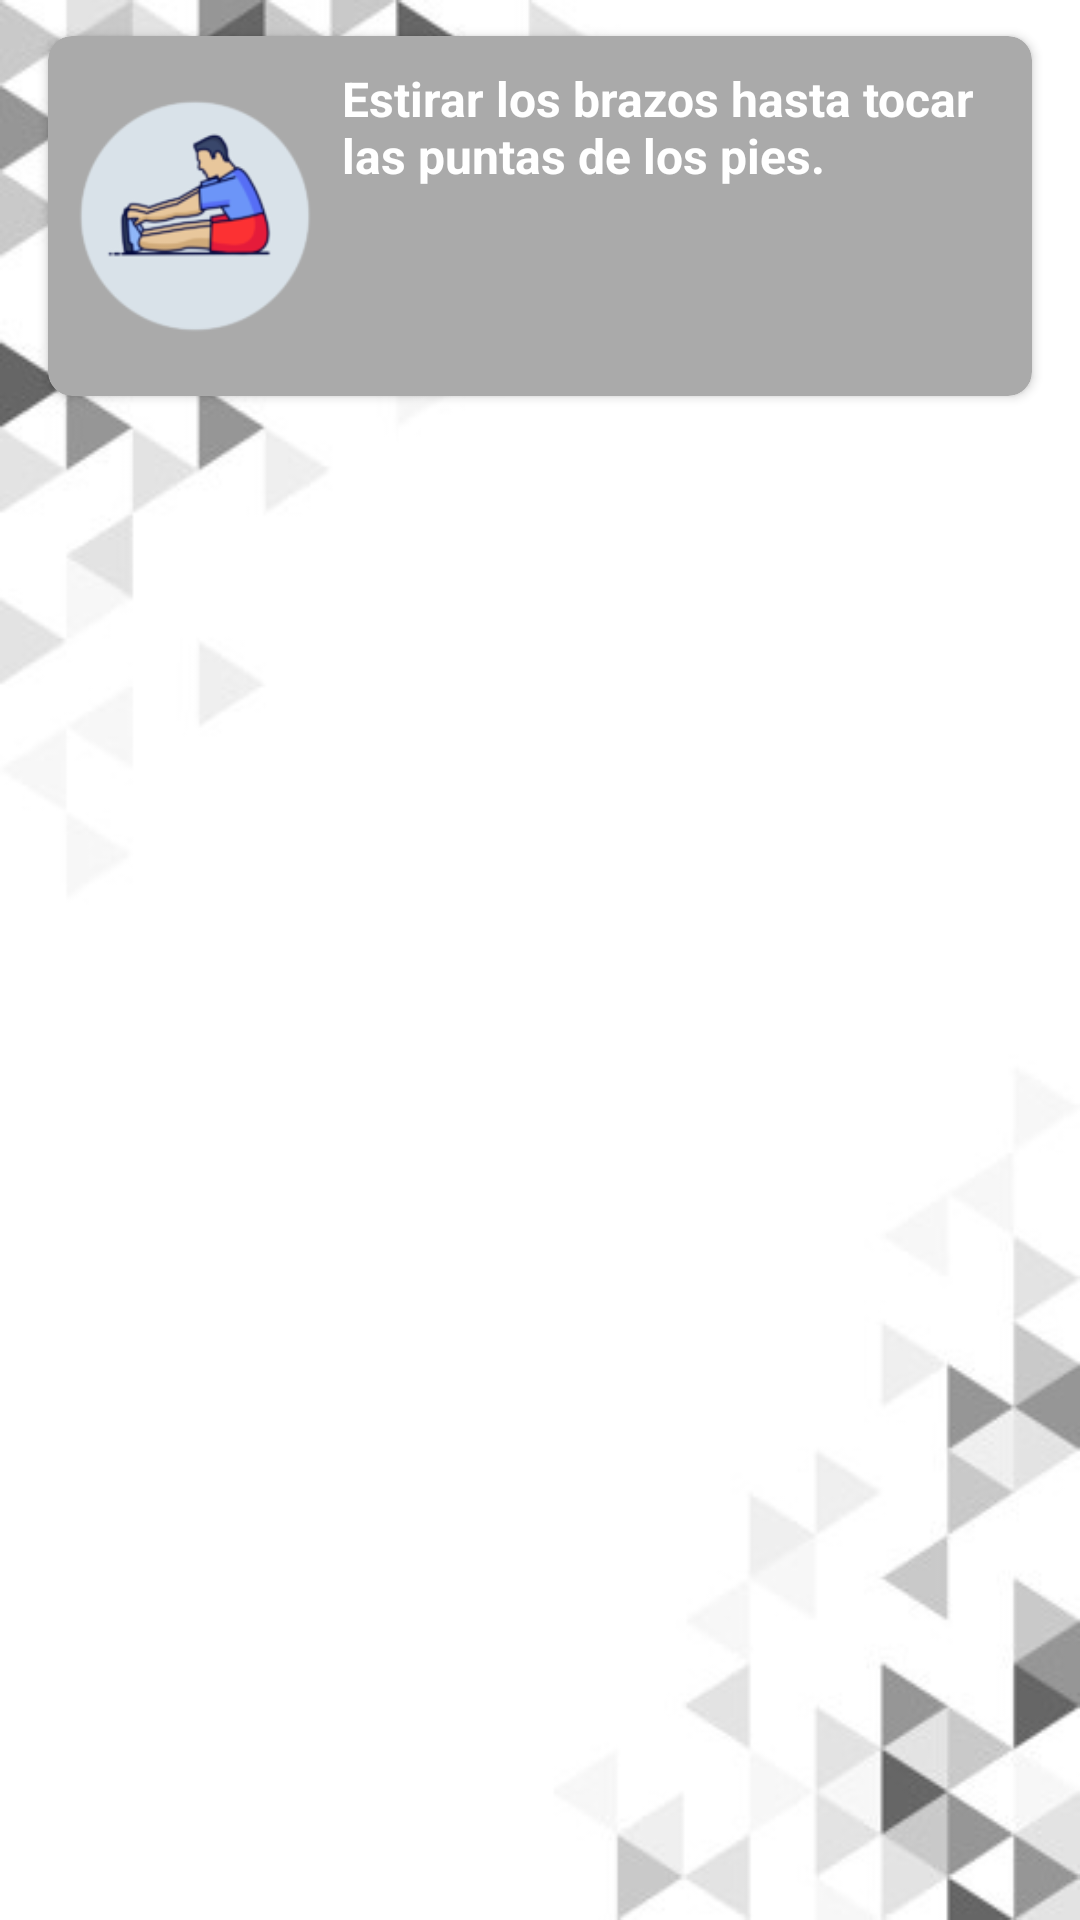

Named icons in this screenshot (1080x1920) and their bounding boxes, [left=x1, top=y1, right=x2, bottom=y2]:
exercise stretching sport: [left=81, top=102, right=309, bottom=330]
